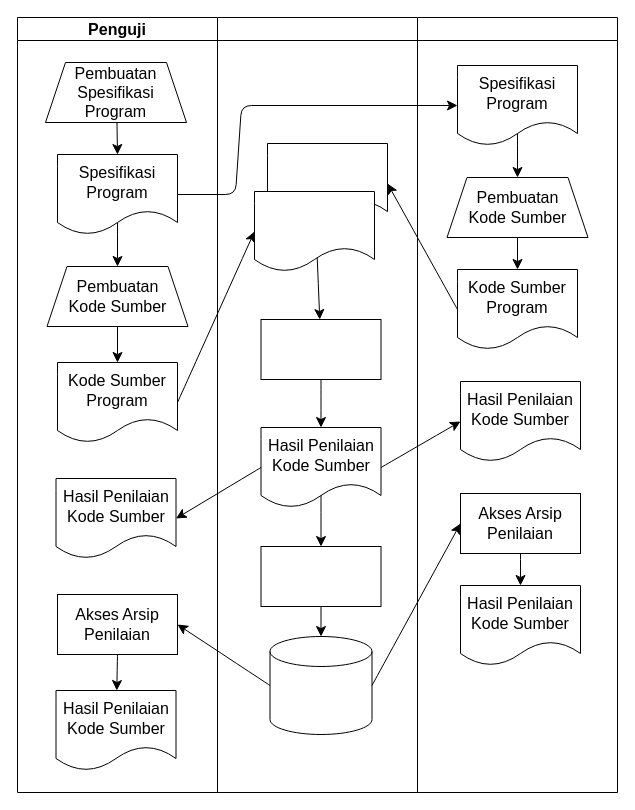
This 635x810 diagram has some shape labels left out. The shapes that lost their labels are listed below. From the top down, each one's box as (x1, y1, x2, y2) in pixels, then its label:
(266, 142, 388, 224): Kode Sumber Programmer
(254, 190, 374, 272): Kode Sumber Penguji
(260, 318, 381, 380): Penilaian Kode Sumber
(216, 16, 418, 792): Aplikasi
(416, 16, 618, 792): Programmer
(260, 546, 381, 606): Penyimpanan Arsip Penilaian
(269, 636, 372, 734): Data Arsip Penilaian
